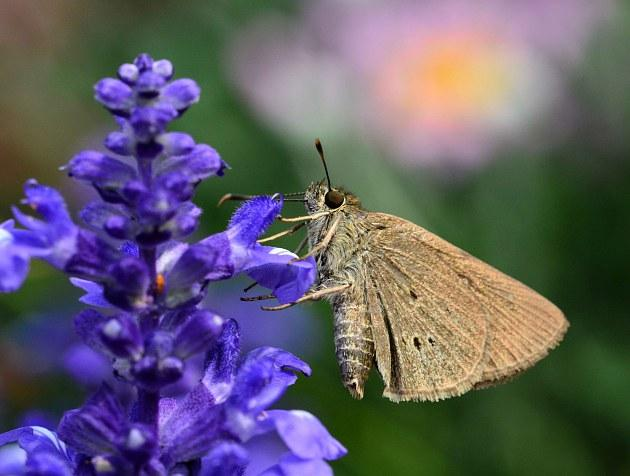Hesperiidae: (214, 137, 569, 405)
